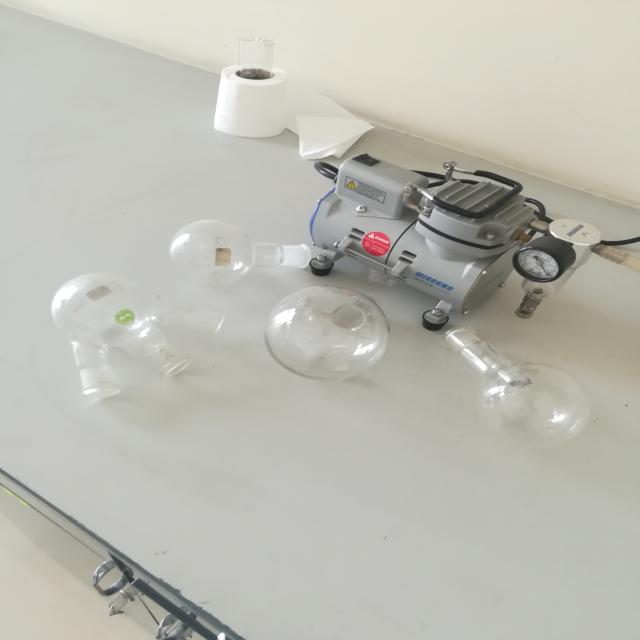Round_Bottom_Flask_Borosilicate_Glass_1_Neck: (446, 298, 624, 478), (162, 186, 350, 293)
Round_Bottom_Flask_Borosilicate_Glass_2_Neck: (226, 247, 420, 394)
Round_Bottom_Flask_Borosilicate_Glass_3_Neck: (28, 260, 232, 430)
